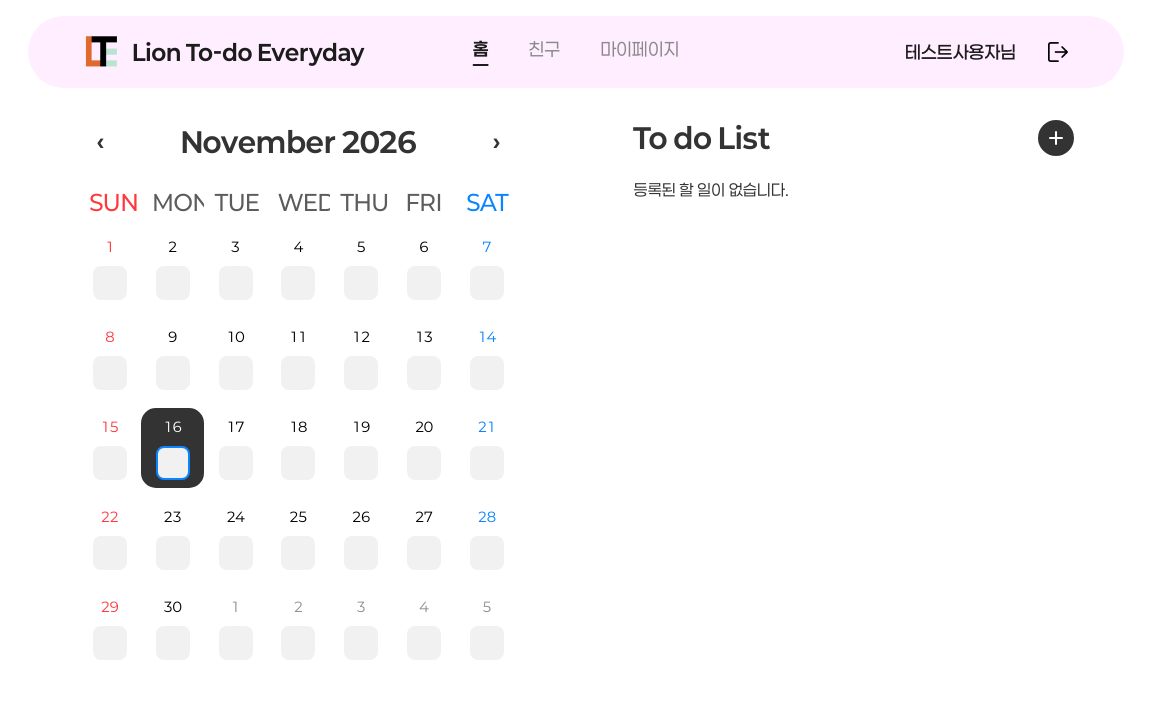
Scenario: 새 카테고리 이름으로 선택하고 저장해도 기존 API 분류와 다시 열린 선택이 일치한다
The image size is (1152, 720).
Click the button named "할 일 추가" at (1056, 138), box [1038, 120, 1074, 156]
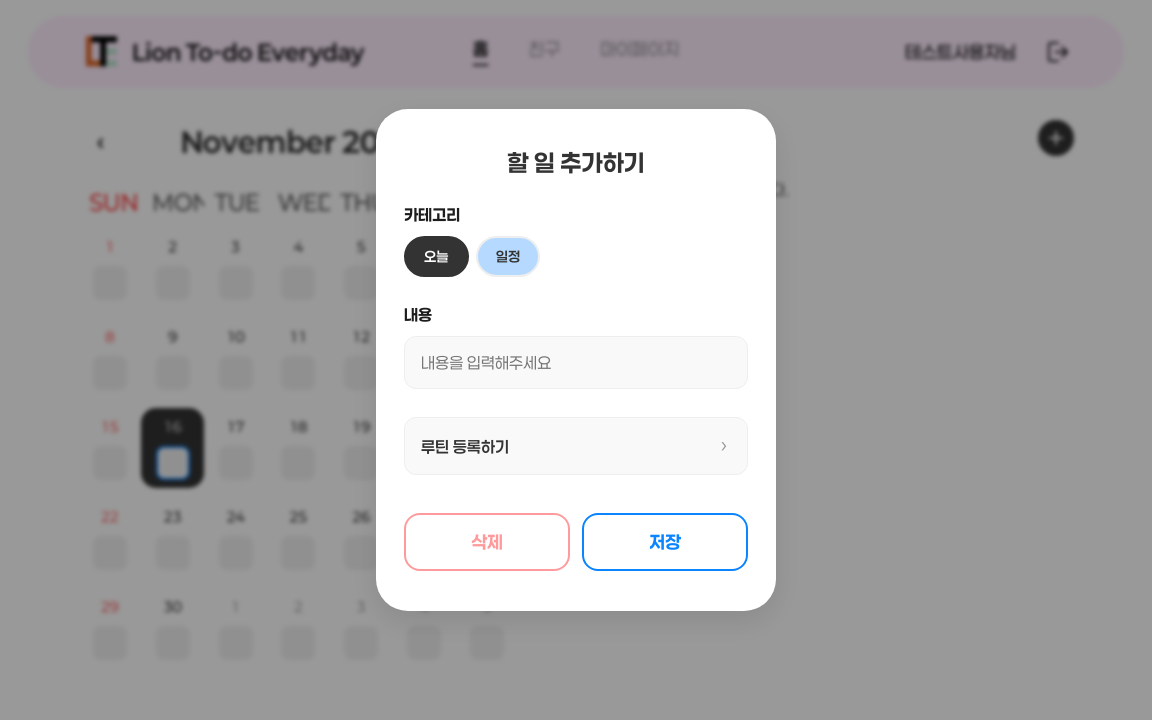
Click the radio button labelled "일정" at (508, 256), box [476, 236, 540, 277]
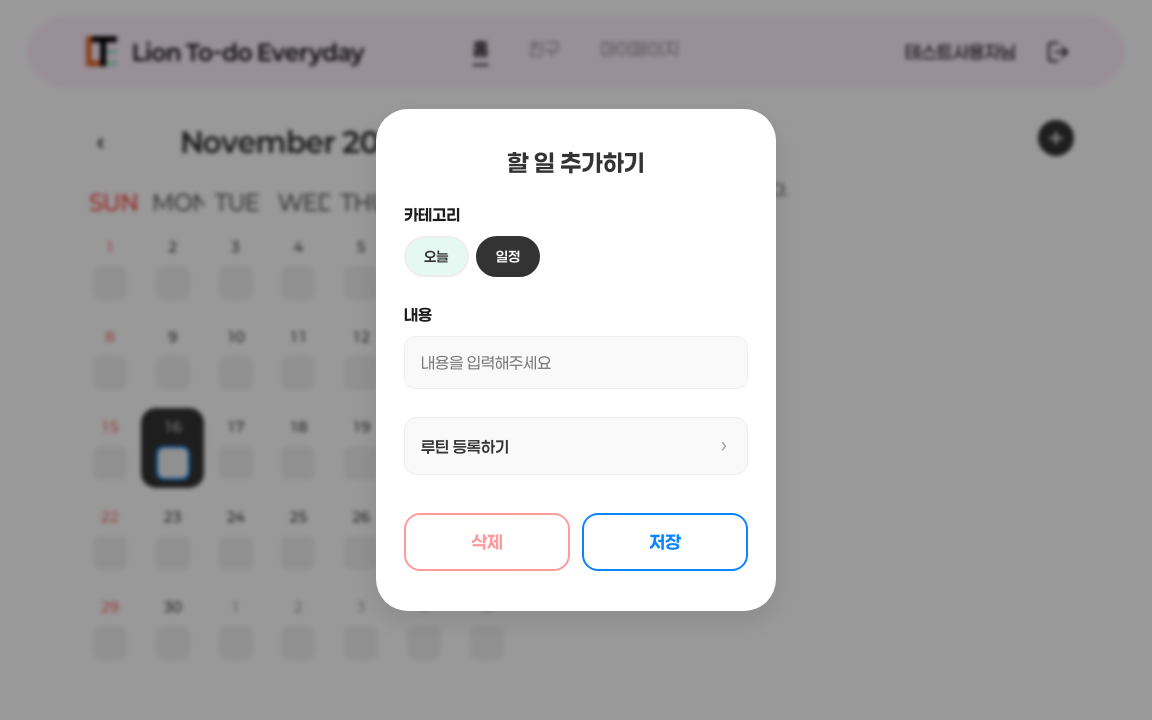
Type "새 분류 저장" into the field labelled "내용" at (576, 362), box [404, 336, 748, 389]
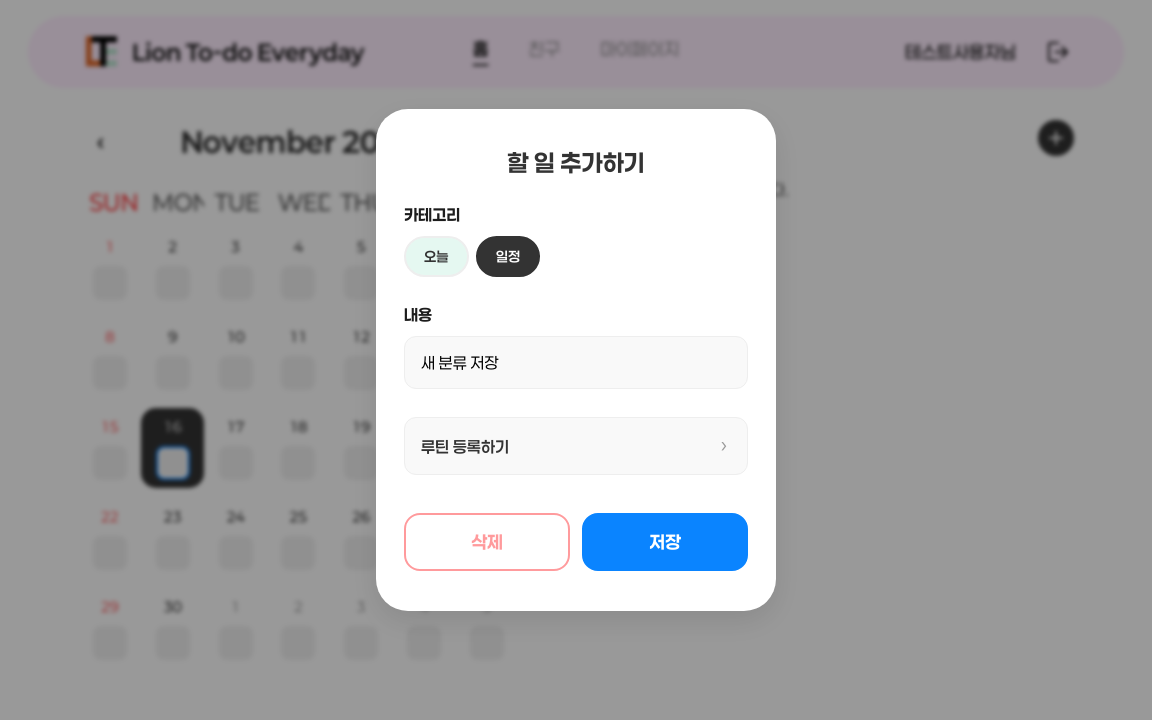
Click the button "저장" at (665, 542), box [582, 513, 748, 571]
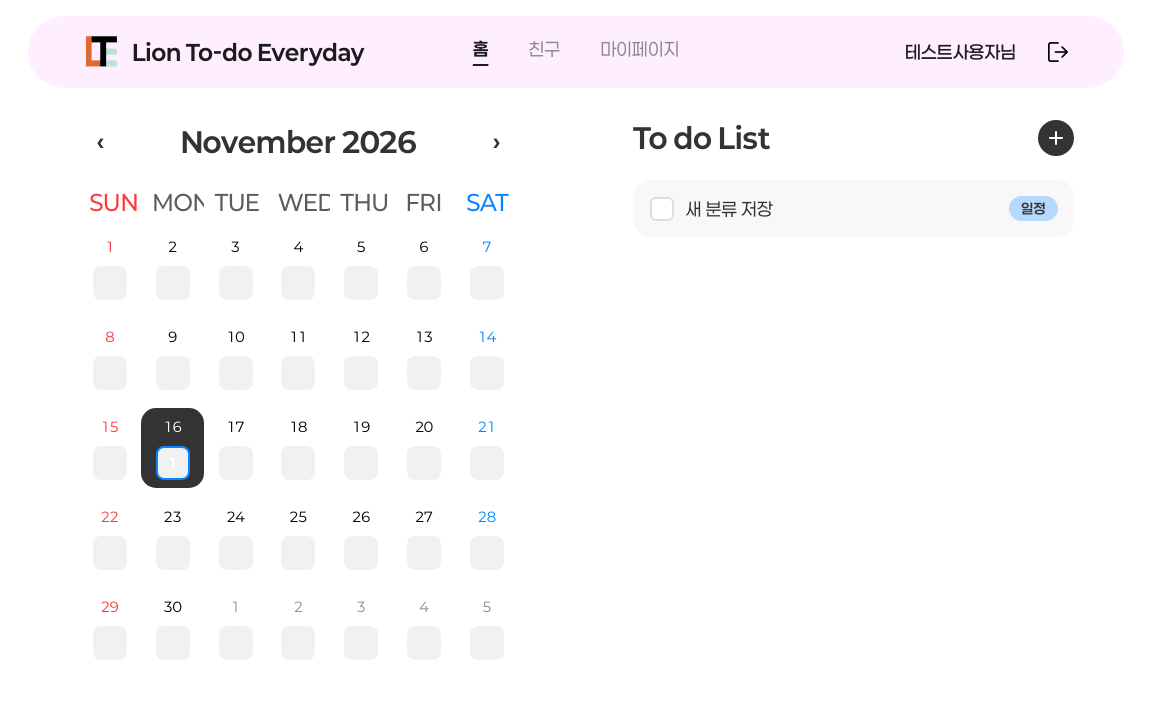
Now the text "일정" is shown, box [1009, 196, 1058, 221]
Now the dialog is gone
Click the text "새 분류 저장" at (729, 208), box [686, 198, 773, 220]
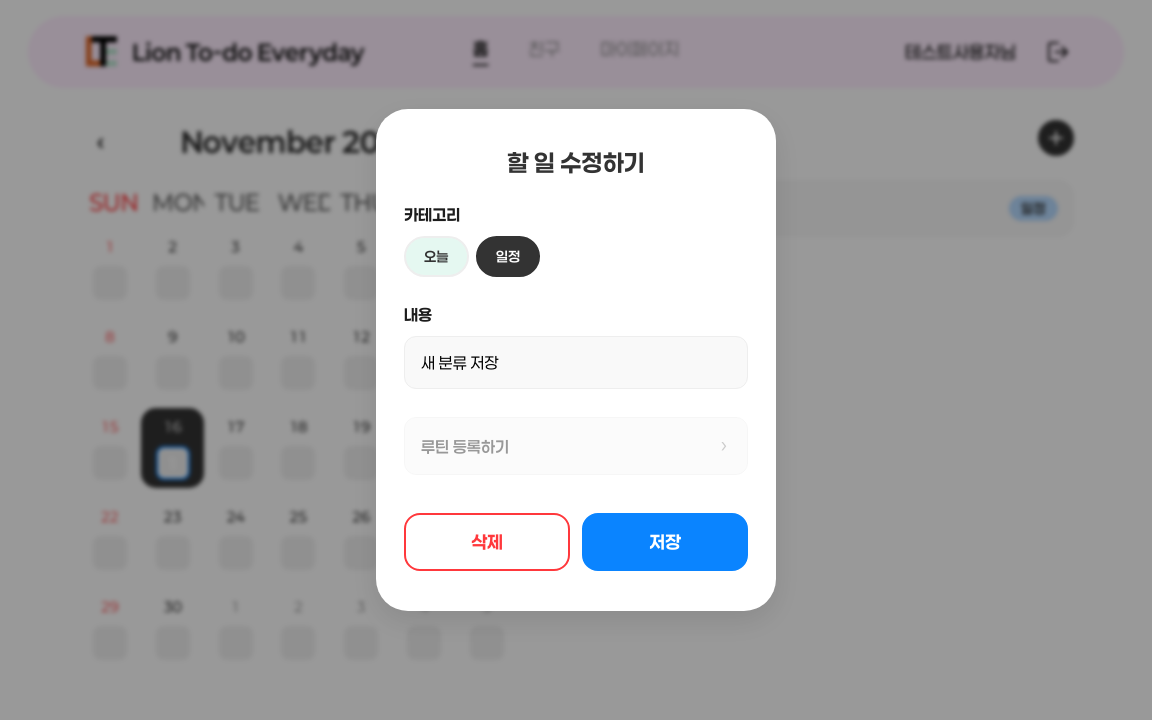
Now the radio button labelled "일정" is checked, box [476, 236, 540, 277]
